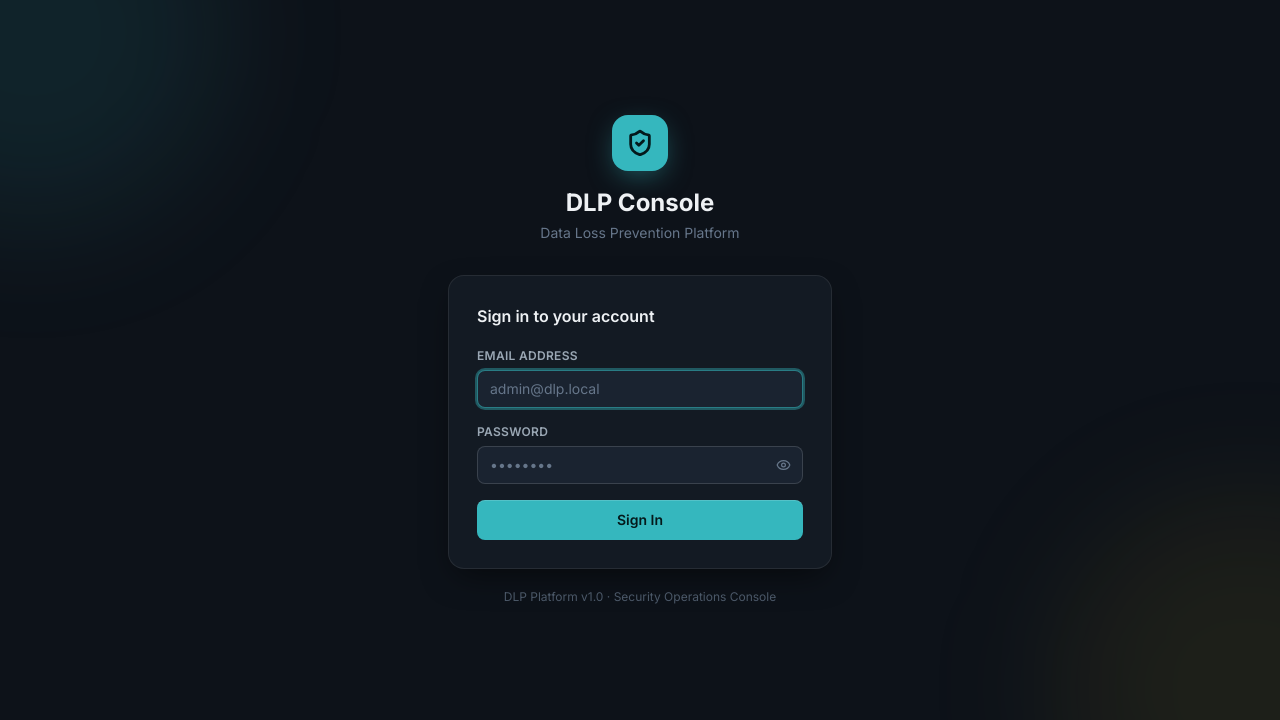
Login page › shows the server’s message for bad credentials
In the field with placeholder "admin@dlp.local": (640, 389) [477,370,803,408], type "a@b.c"
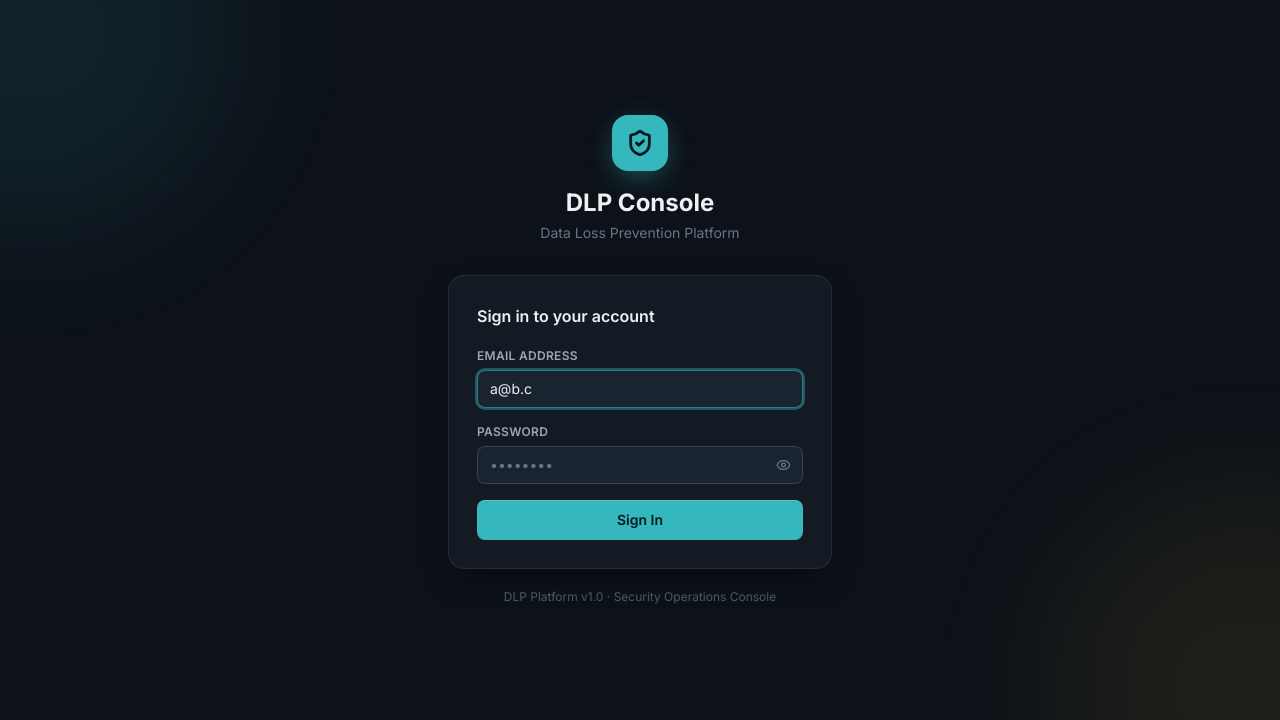
In the password field with placeholder "••••••••": (640, 465) [477,446,803,484], type "wrong"
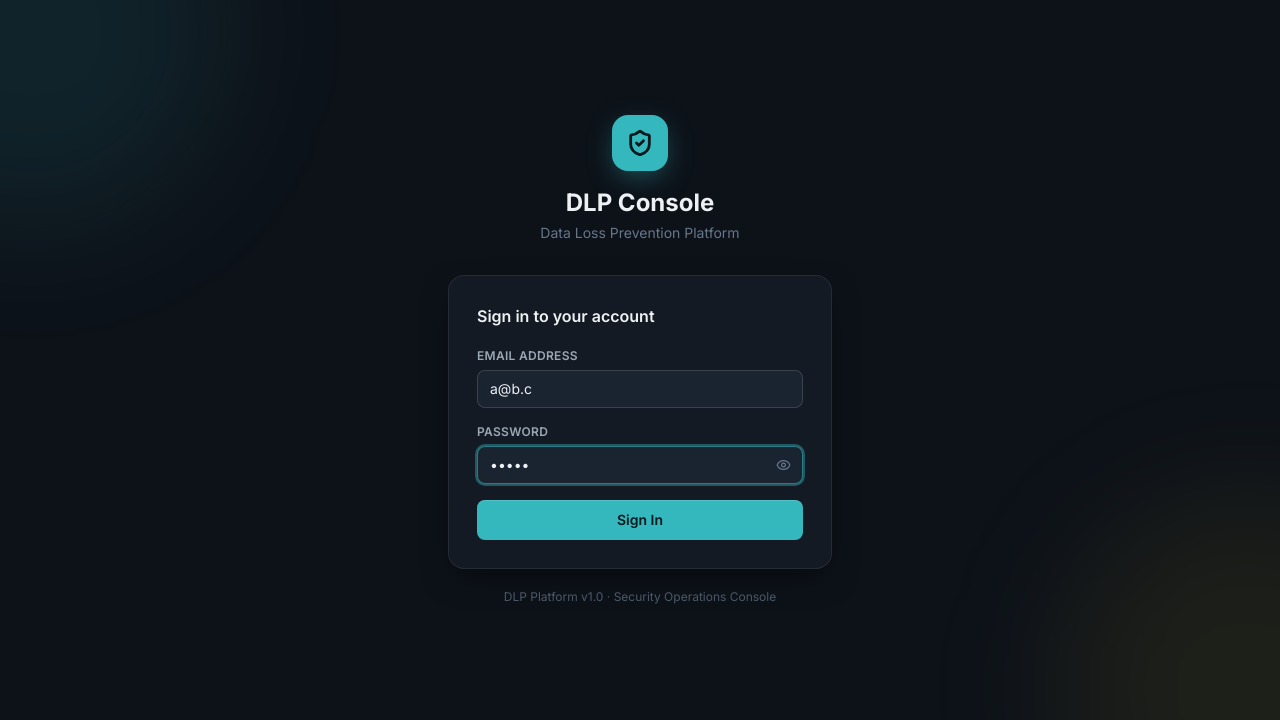
Click the button "Sign In": (640, 520) [477,500,803,540]
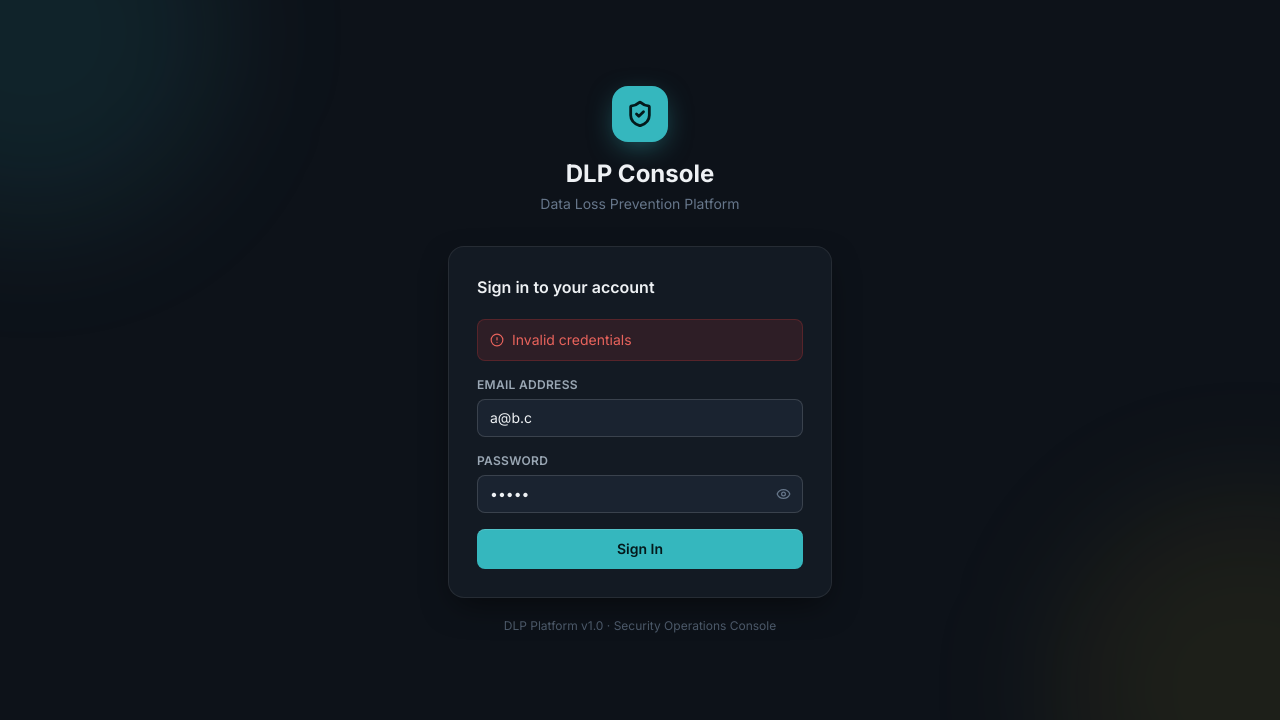
Check: the text "Invalid credentials" is shown, box [477,319,803,361]
